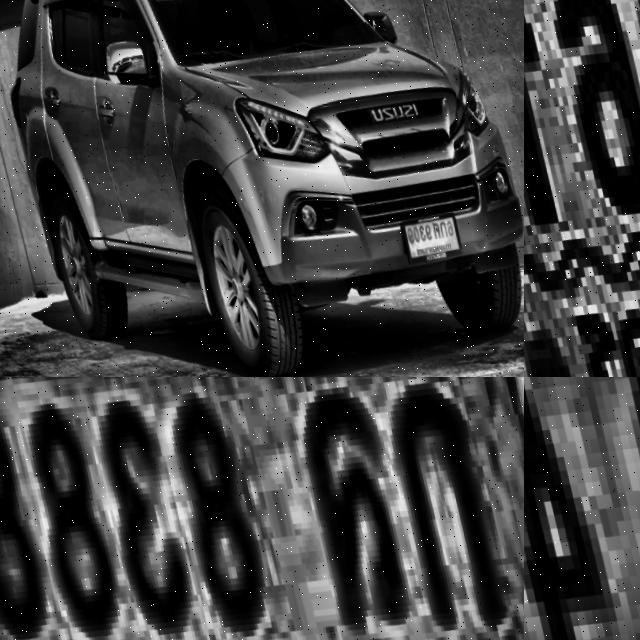license-plate: (0, 377, 524, 640), (524, 0, 640, 377), (524, 377, 640, 640), (391, 200, 460, 262)
